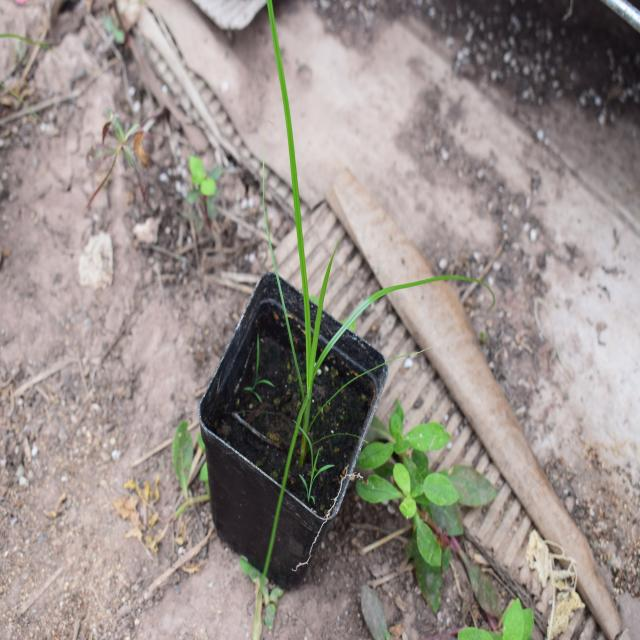sedge: (204, 3, 458, 526)
